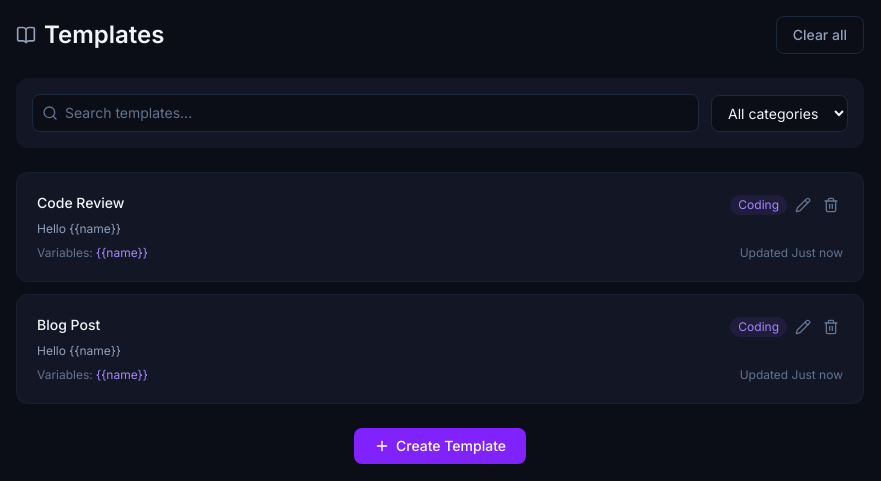
Test: TemplateLibraryPage › search filters templates (TC-L-06)
In the field with placeholder "Search templates...": (366, 113) [32, 94, 699, 132], type "Code"
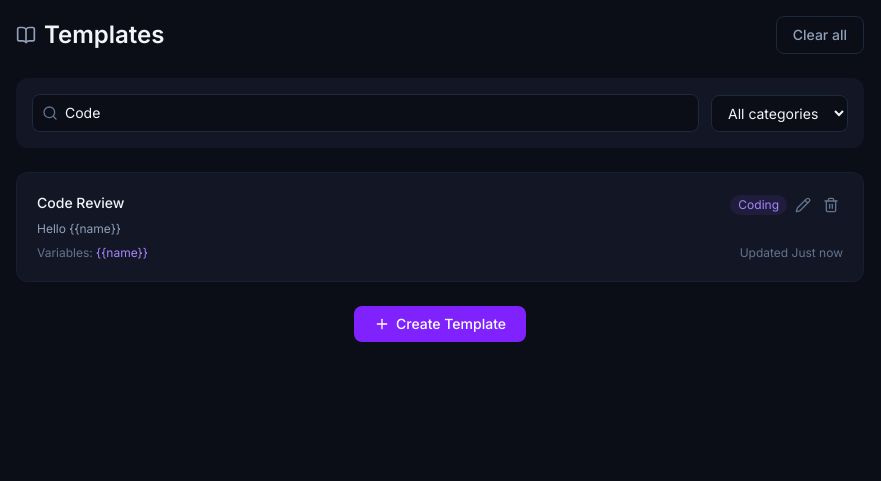
Expected: the text "Code Review" is shown, [37, 193, 124, 213]
Now the text "Blog Post" is gone
